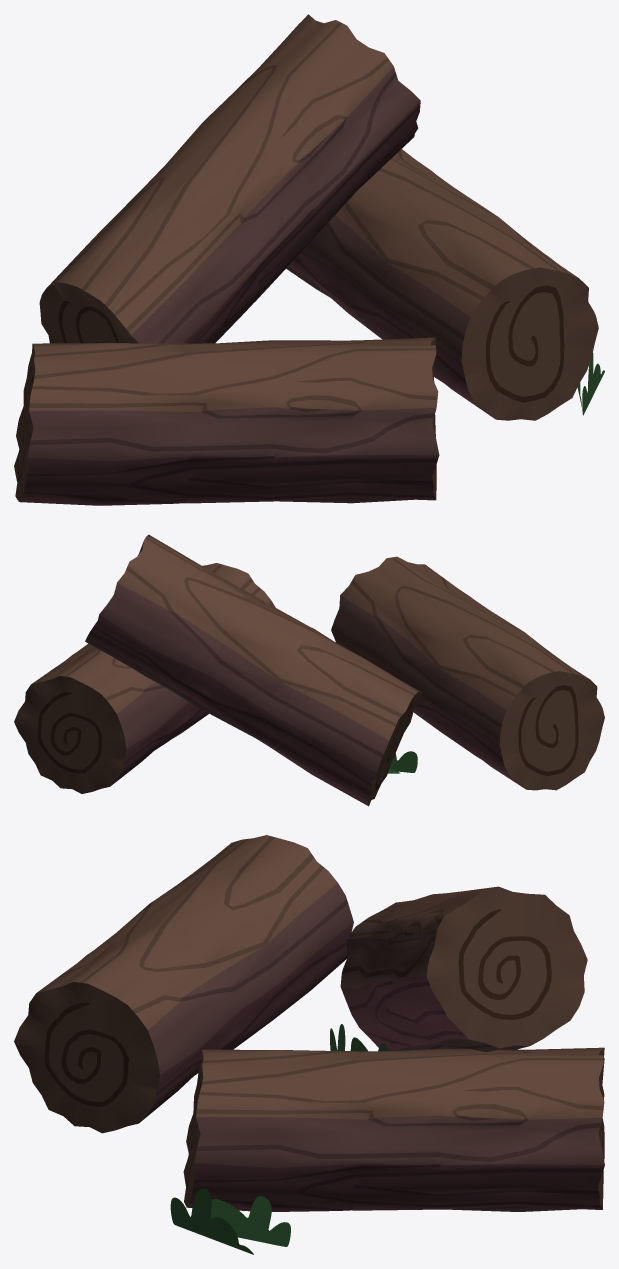
Rendered from wooden-logs-1616.glb.
3 views of the same model, one above another, from view 1: azimuth 30°, elevation 25°; view 2: azimuth 150°, elevation 25°; view 3: azimuth 270°, elevation 25° (orthographic). The views are drawn at different scales.
Visible parts, largest first — view 1: Cylinder.002, Cylinder.001, Cylinder; view 2: Cylinder.001, Cylinder.002, Cylinder, Plane.002; view 3: Cylinder, Cylinder.002, Cylinder.001, Plane.001, Plane.
Part boxes in pixels (left/top/right/bottom): Cylinder.002: left=14, top=337, right=439, bottom=505; Cylinder.001: left=39, top=14, right=420, bottom=343; Cylinder: left=286, top=149, right=598, bottom=420; Cylinder.001: left=85, top=534, right=422, bottom=806; Cylinder.002: left=331, top=556, right=604, bottom=790; Cylinder: left=14, top=563, right=275, bottom=793; Plane.002: left=389, top=751, right=417, bottom=772; Cylinder: left=183, top=1047, right=604, bottom=1211; Cylinder.002: left=14, top=835, right=353, bottom=1133; Cylinder.001: left=340, top=886, right=587, bottom=1052; Plane.001: left=211, top=1196, right=290, bottom=1246; Plane: left=170, top=1188, right=253, bottom=1254.
Size of the model in its own units: 6.74 by 3.23 by 5.8.
